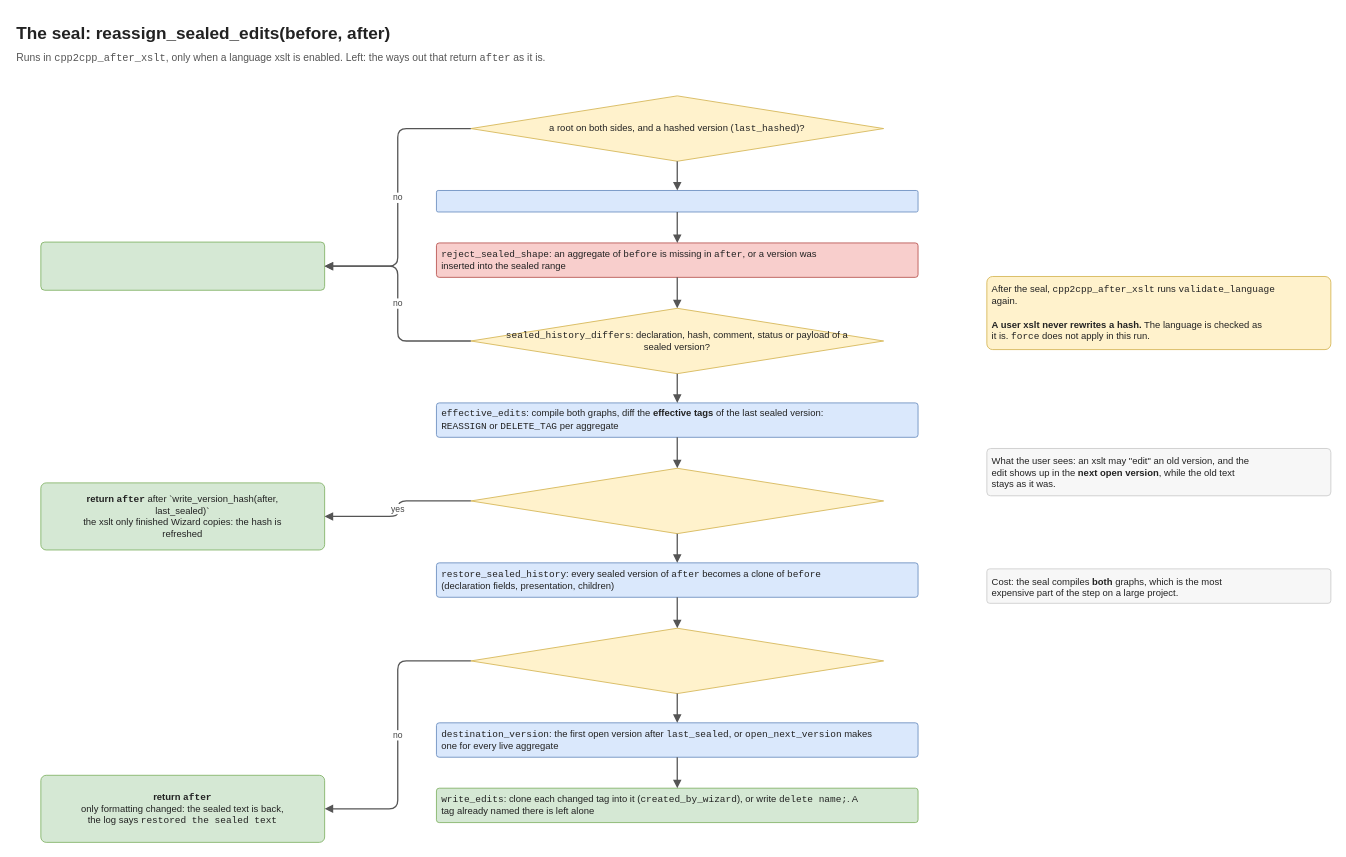
The diagram is 1346 pixels wide and 857 high, and some of its shapes have lost their labels. Each missing label, with the box of its shape:
any effective edits left?: (470, 627, 884, 694)
only REASSIGN of tags the Wizard copied ( created_by_wizard , dynamic label)?: (470, 467, 884, 534)
refresh_version_records() on both: rebuild every definition_payload: (436, 190, 918, 212)
return after nothing sealed, or nothing changed: (40, 241, 325, 290)
